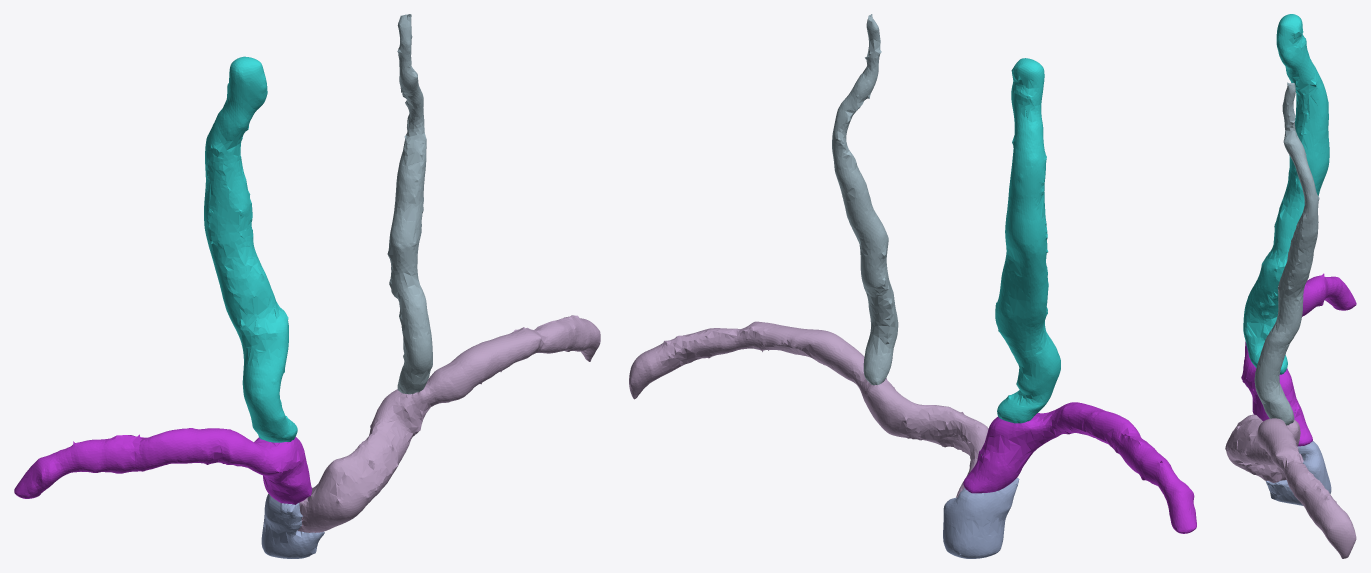
The model's file is head-veins.glb.
3 renders of one model, left to right at view 1: azimuth 30°, elevation 25°; view 2: azimuth 150°, elevation 25°; view 3: azimuth 270°, elevation 25°, orthographic. The views are drawn at different scales.
Visible parts, largest first — view 1: Model 109 right internal jugular vein, Model 114 left subclavian vein, Model 113 right subclavian vein, Model 110 left internal jugular vein, Model 117 superior vena cava; view 2: Model 109 right internal jugular vein, Model 114 left subclavian vein, Model 113 right subclavian vein, Model 110 left internal jugular vein, Model 117 superior vena cava; view 3: Model 109 right internal jugular vein, Model 110 left internal jugular vein, Model 114 left subclavian vein, Model 113 right subclavian vein, Model 117 superior vena cava.
Boxes of the visible parts, x1=… form: Model 109 right internal jugular vein: x1=204, y1=56, x2=297, y2=442; Model 114 left subclavian vein: x1=297, y1=315, x2=600, y2=532; Model 113 right subclavian vein: x1=14, y1=428, x2=312, y2=504; Model 110 left internal jugular vein: x1=387, y1=14, x2=432, y2=394; Model 117 superior vena cava: x1=261, y1=484, x2=324, y2=558; Model 109 right internal jugular vein: x1=995, y1=58, x2=1060, y2=423; Model 114 left subclavian vein: x1=629, y1=321, x2=988, y2=497; Model 113 right subclavian vein: x1=963, y1=402, x2=1196, y2=533; Model 110 left internal jugular vein: x1=832, y1=14, x2=898, y2=385; Model 117 superior vena cava: x1=943, y1=454, x2=1019, y2=558; Model 109 right internal jugular vein: x1=1243, y1=14, x2=1329, y2=374; Model 110 left internal jugular vein: x1=1254, y1=82, x2=1319, y2=425; Model 114 left subclavian vein: x1=1225, y1=414, x2=1356, y2=558; Model 113 right subclavian vein: x1=1241, y1=273, x2=1356, y2=446; Model 117 superior vena cava: x1=1265, y1=411, x2=1331, y2=505.
Size of the model in its own units: 226 by 193 by 48.91.
